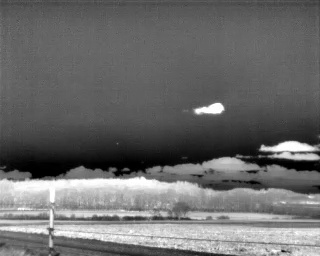DRONE: (190, 97, 227, 120)
